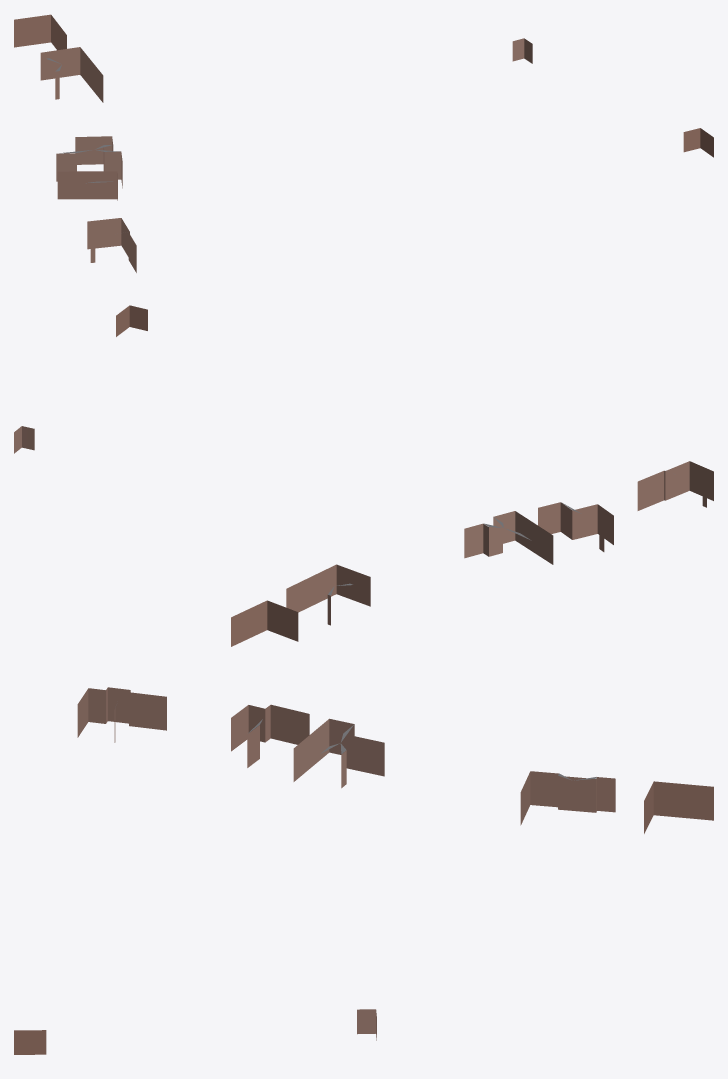
File: c_1647_17822_buildings_residential.glb
3 renders of one model, top to bottom at view 1: azimuth 30°, elevation 25°; view 2: azimuth 150°, elevation 25°; view 3: azimuth 270°, elevation 25°, orthographic. The views are drawn at different scales.
Visible parts, largest first — view 1: geometry_0; view 2: geometry_0; view 3: geometry_0.
Boxes of the visible parts, box(x1,y1,x2,y2) form: geometry_0: box(14, 14, 713, 272); geometry_0: box(14, 305, 713, 646); geometry_0: box(14, 687, 713, 1054).
Size of the model in its own units: 240 by 11.08 by 206.
